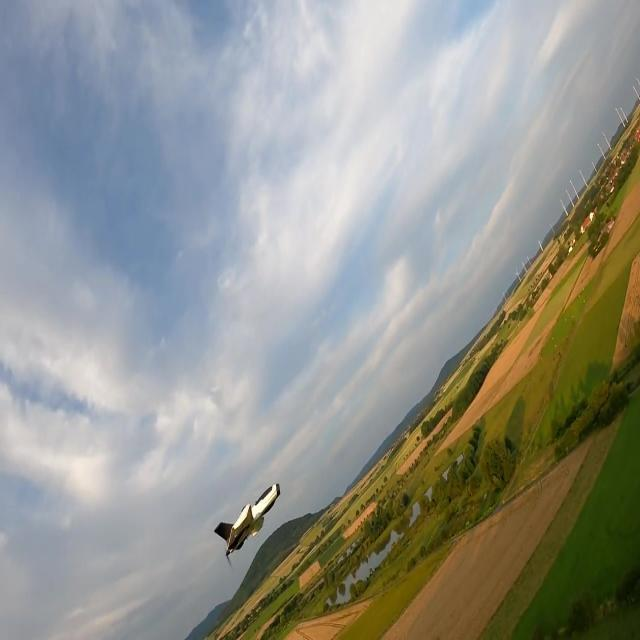iha: (233, 504, 263, 531)
